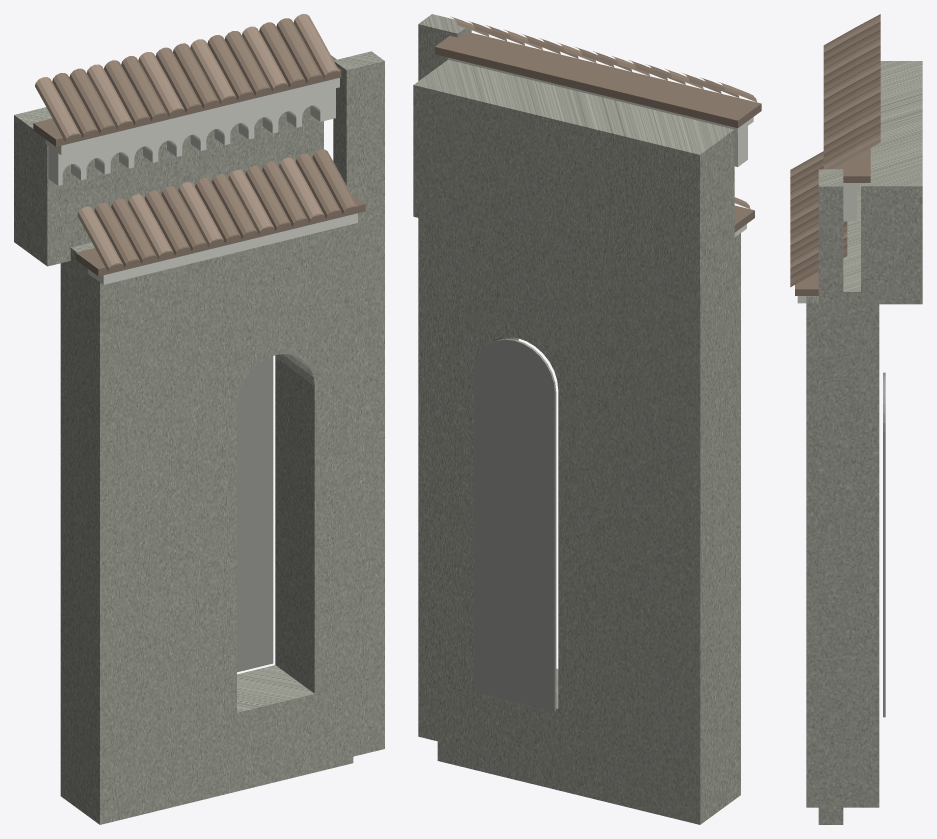
Rendered from xinzha-1340-no21-arched-recess-far.glb.
3 renders of one model, left to right at view 1: azimuth 30°, elevation 25°; view 2: azimuth 150°, elevation 25°; view 3: azimuth 270°, elevation 25°, orthographic. The views are drawn at different scales.
Parts seen in each view (by area): view 1: 新闸路1340弄21号圆头深窗洞与重檐; view 2: 新闸路1340弄21号圆头深窗洞与重檐; view 3: 新闸路1340弄21号圆头深窗洞与重檐.
Part boxes in pixels (x1=…): 新闸路1340弄21号圆头深窗洞与重檐: x1=14, y1=14, x2=384, y2=824; 新闸路1340弄21号圆头深窗洞与重檐: x1=413, y1=14, x2=761, y2=824; 新闸路1340弄21号圆头深窗洞与重檐: x1=790, y1=14, x2=922, y2=824.
Bounding box in the file's own units: 2.8 × 5.97 × 1.07.
5 materials, 1 textured.
